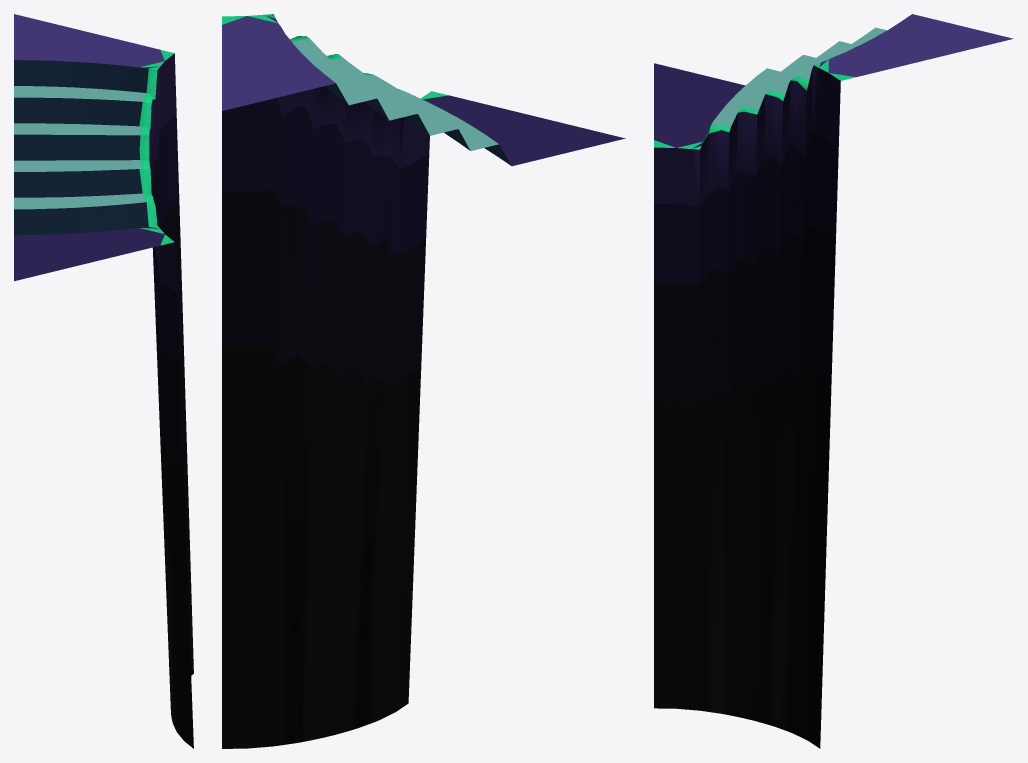
File: MODULE_ALIEN_RIM_STEP_1_STAIRS.fbx
3 views of the same model, side by side, from view 1: azimuth 30°, elevation 25°; view 2: azimuth 150°, elevation 25°; view 3: azimuth 270°, elevation 25° (orthographic). The views are drawn at different scales.
Visible parts, largest first — view 1: MODULE_ALIEN_RIM_STEP_1_STAIRS__export; view 2: MODULE_ALIEN_RIM_STEP_1_STAIRS__export; view 3: MODULE_ALIEN_RIM_STEP_1_STAIRS__export.
Boxes of the visible parts, x1=… form: MODULE_ALIEN_RIM_STEP_1_STAIRS__export: x1=14, y1=14, x2=193, y2=748; MODULE_ALIEN_RIM_STEP_1_STAIRS__export: x1=222, y1=14, x2=625, y2=748; MODULE_ALIEN_RIM_STEP_1_STAIRS__export: x1=654, y1=14, x2=1013, y2=748.
Bounding box in the file's own units: 76.91 × 176 × 86.6.
